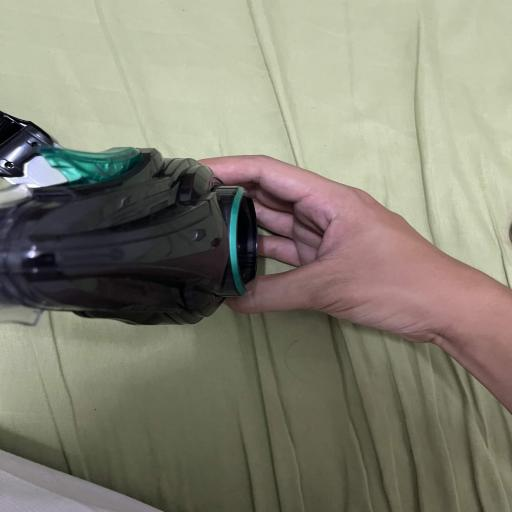zeztzdriver: (0, 112, 257, 325)
